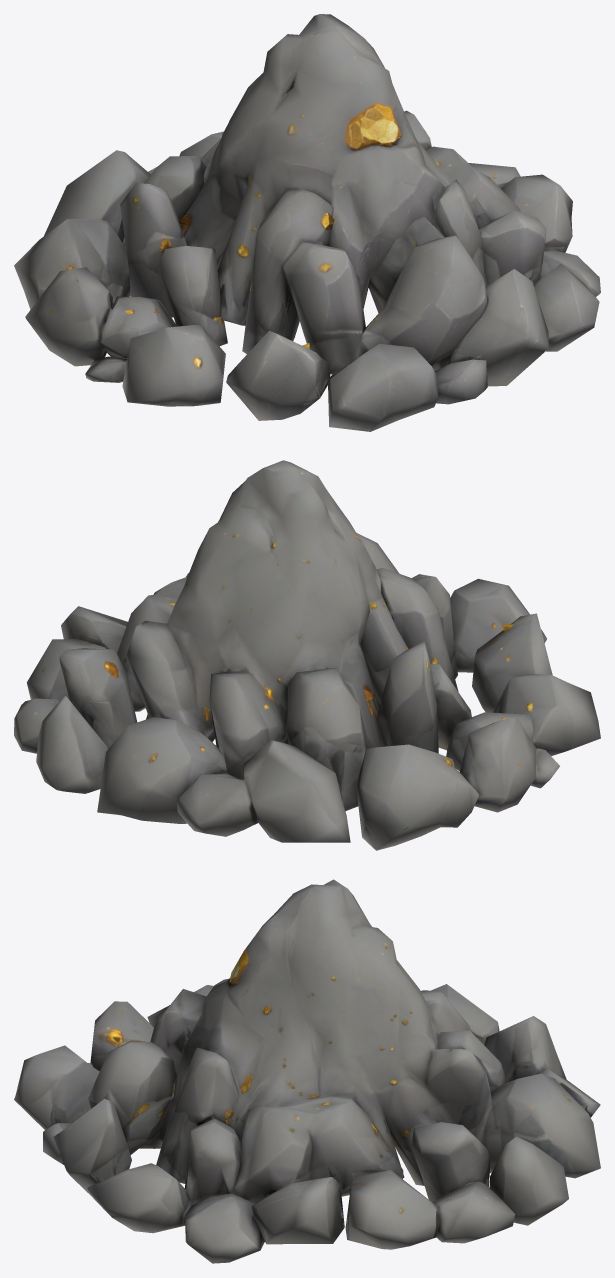
File: ore_vein.glb
3 views of the same model, one above another, from view 1: azimuth 30°, elevation 25°; view 2: azimuth 150°, elevation 25°; view 3: azimuth 270°, elevation 25° (orthographic). The views are drawn at different scales.
Bounding box in the file's own units: 1.92 × 1.08 × 1.99.
Materials: 1 (1 with a texture image).
